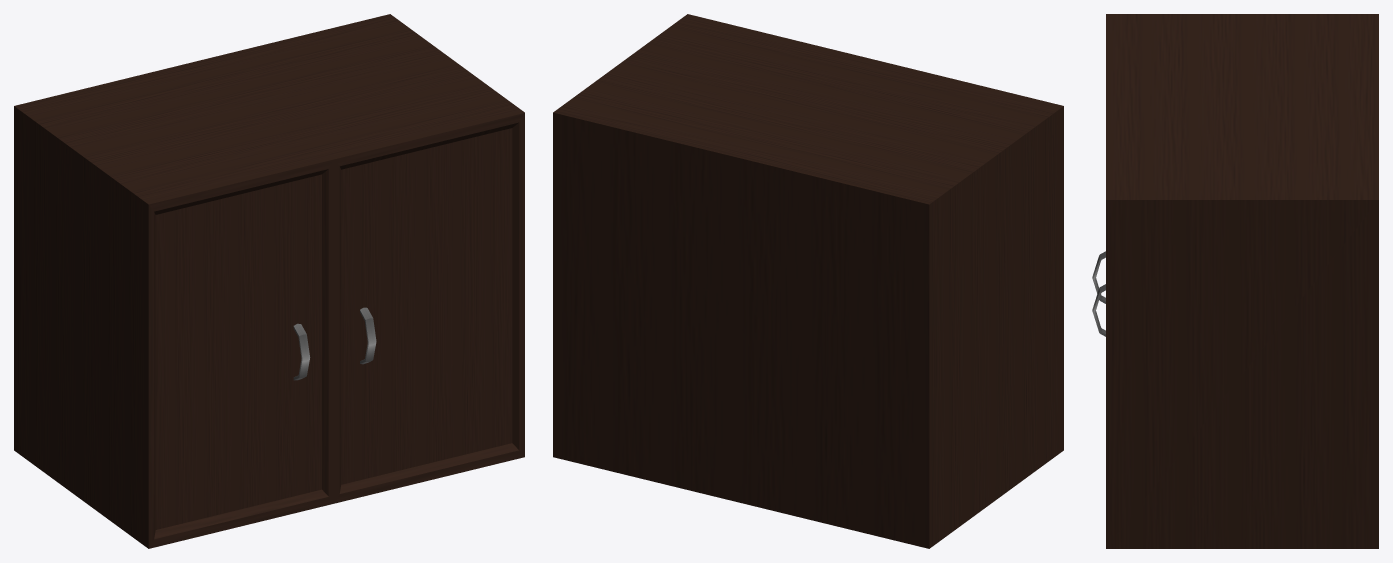
Rendered from Cabinet_B2.FBX.
The picture shows the model from 3 angles, left to right: view 1: azimuth 30°, elevation 25°; view 2: azimuth 150°, elevation 25°; view 3: azimuth 270°, elevation 25°; orthographic projection.
Parts seen in each view (by area): view 1: Cabinet_02; view 2: Cabinet_02; view 3: Cabinet_02.
Boxes of the visible parts, x1=… form: Cabinet_02: x1=14, y1=14, x2=524, y2=548; Cabinet_02: x1=553, y1=14, x2=1063, y2=548; Cabinet_02: x1=1092, y1=14, x2=1378, y2=548.
Size of the model in its own units: 125 by 109 by 81.32.
